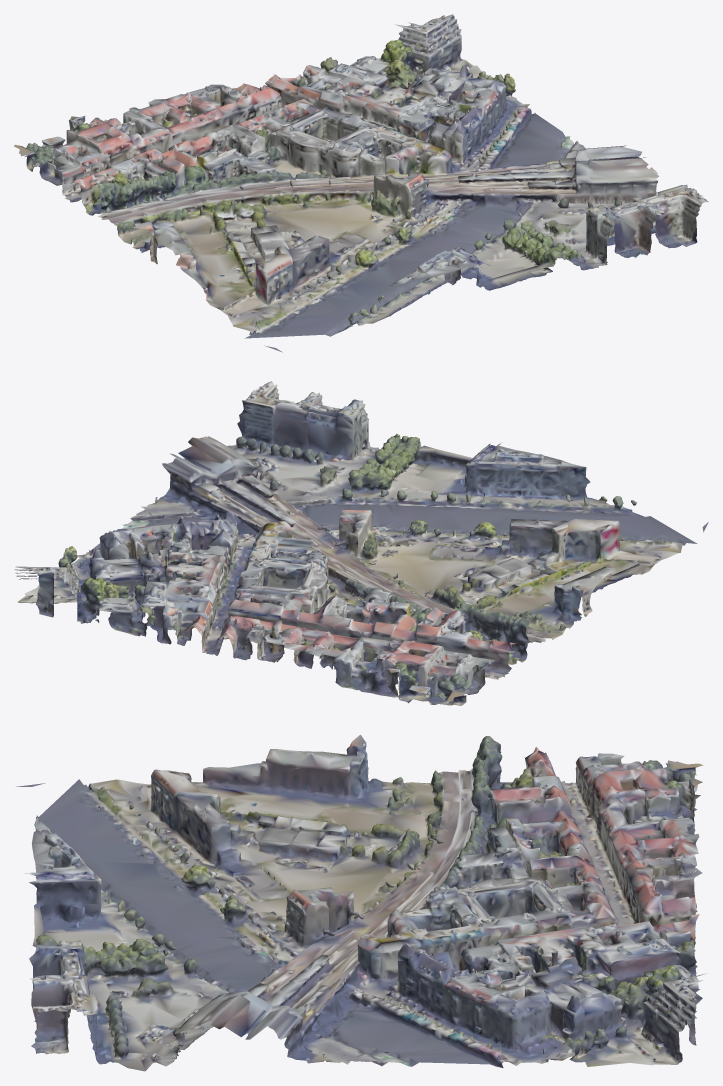
File: tile-3901_58200.glb
The picture shows the model from 3 angles, top to bottom: view 1: azimuth 30°, elevation 25°; view 2: azimuth 150°, elevation 25°; view 3: azimuth 270°, elevation 25°; orthographic projection. The views are drawn at different scales.
Parts seen in each view (by area): view 1: world; view 2: world; view 3: world.
Boxes of the visible parts, x1,y1,x2,y2 form: world: (14, 14, 708, 352); world: (14, 381, 708, 705); world: (16, 734, 706, 1071).
Size of the model in its own units: 385 by 38.7 by 381.
